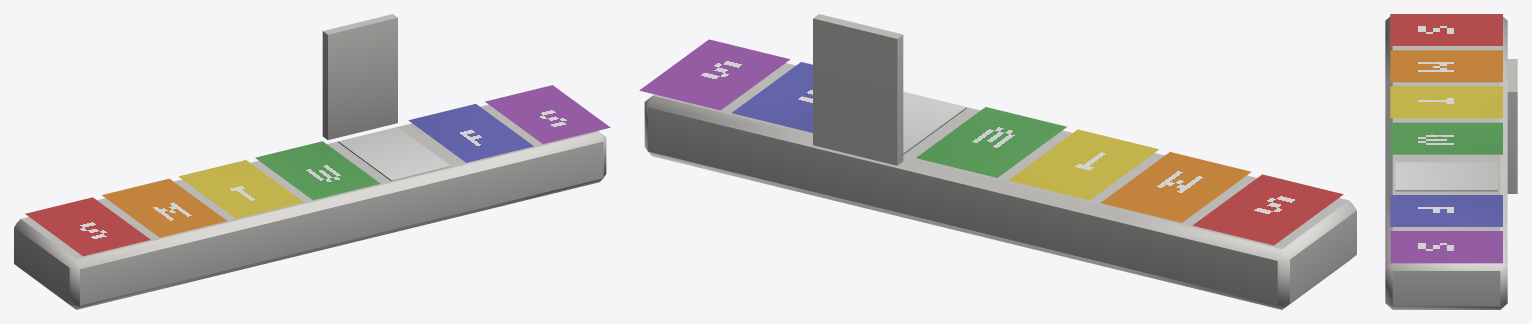
The model's file is pill_organizer.glb.
3 views of the same model, side by side, from view 1: azimuth 30°, elevation 25°; view 2: azimuth 150°, elevation 25°; view 3: azimuth 270°, elevation 25° (orthographic). The views are drawn at different scales.
Visible parts, largest first — view 1: body, panels, flip_lid; view 2: body, panels, flip_lid; view 3: panels, body, flip_lid.
Boxes of the visible parts, <box> form: body: <box>14,104,606,309</box>; panels: <box>25,85,610,256</box>; flip_lid: <box>322,14,397,139</box>; body: <box>644,63,1356,309</box>; panels: <box>639,39,1343,245</box>; flip_lid: <box>813,14,903,165</box>; panels: <box>1390,14,1502,263</box>; body: <box>1385,16,1507,309</box>; flip_lid: <box>1507,59,1517,193</box>.
Size of what is drawn, in the model's own units: 0.2465 by 0.068 by 0.054.
3 materials, 1 textured.
